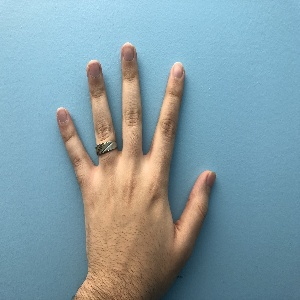hand: (57, 42, 216, 272)
